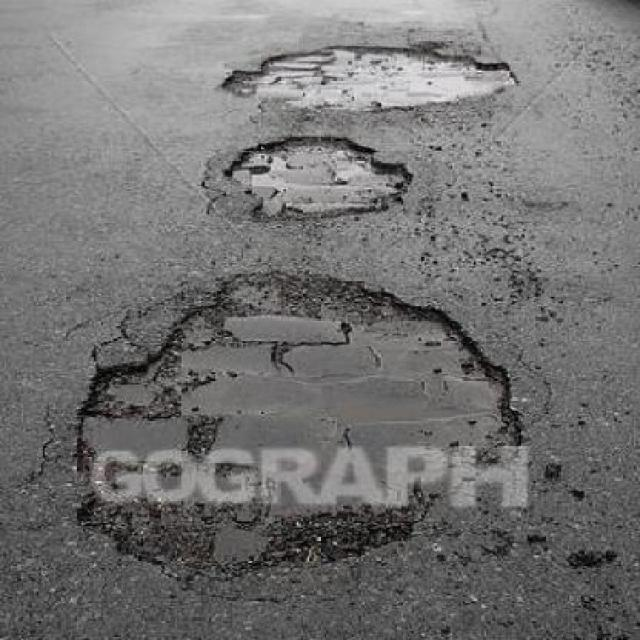Pothole: (60, 260, 527, 578), (214, 43, 519, 101), (220, 131, 416, 219)
